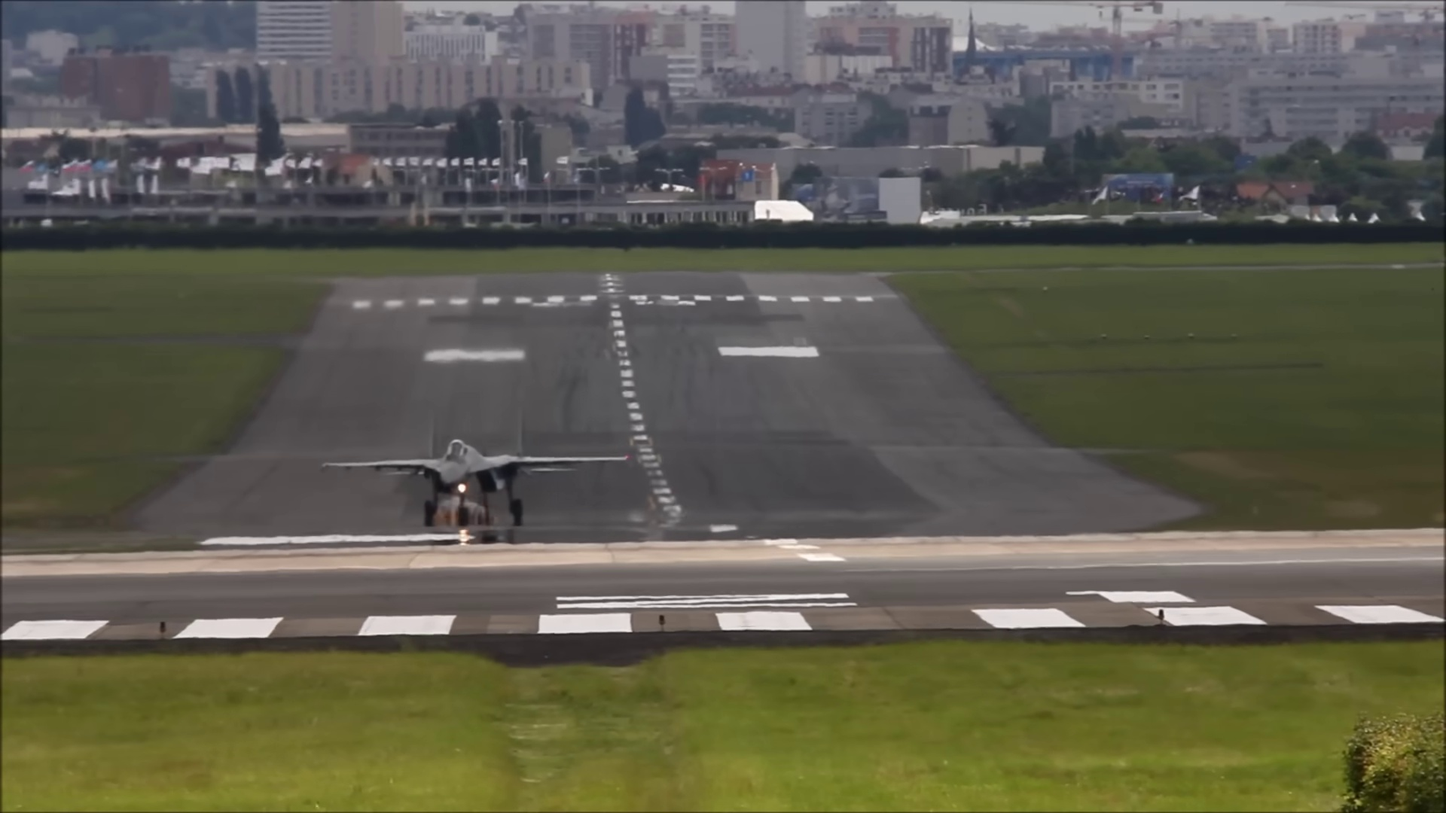Su35: (313, 424, 629, 537)
